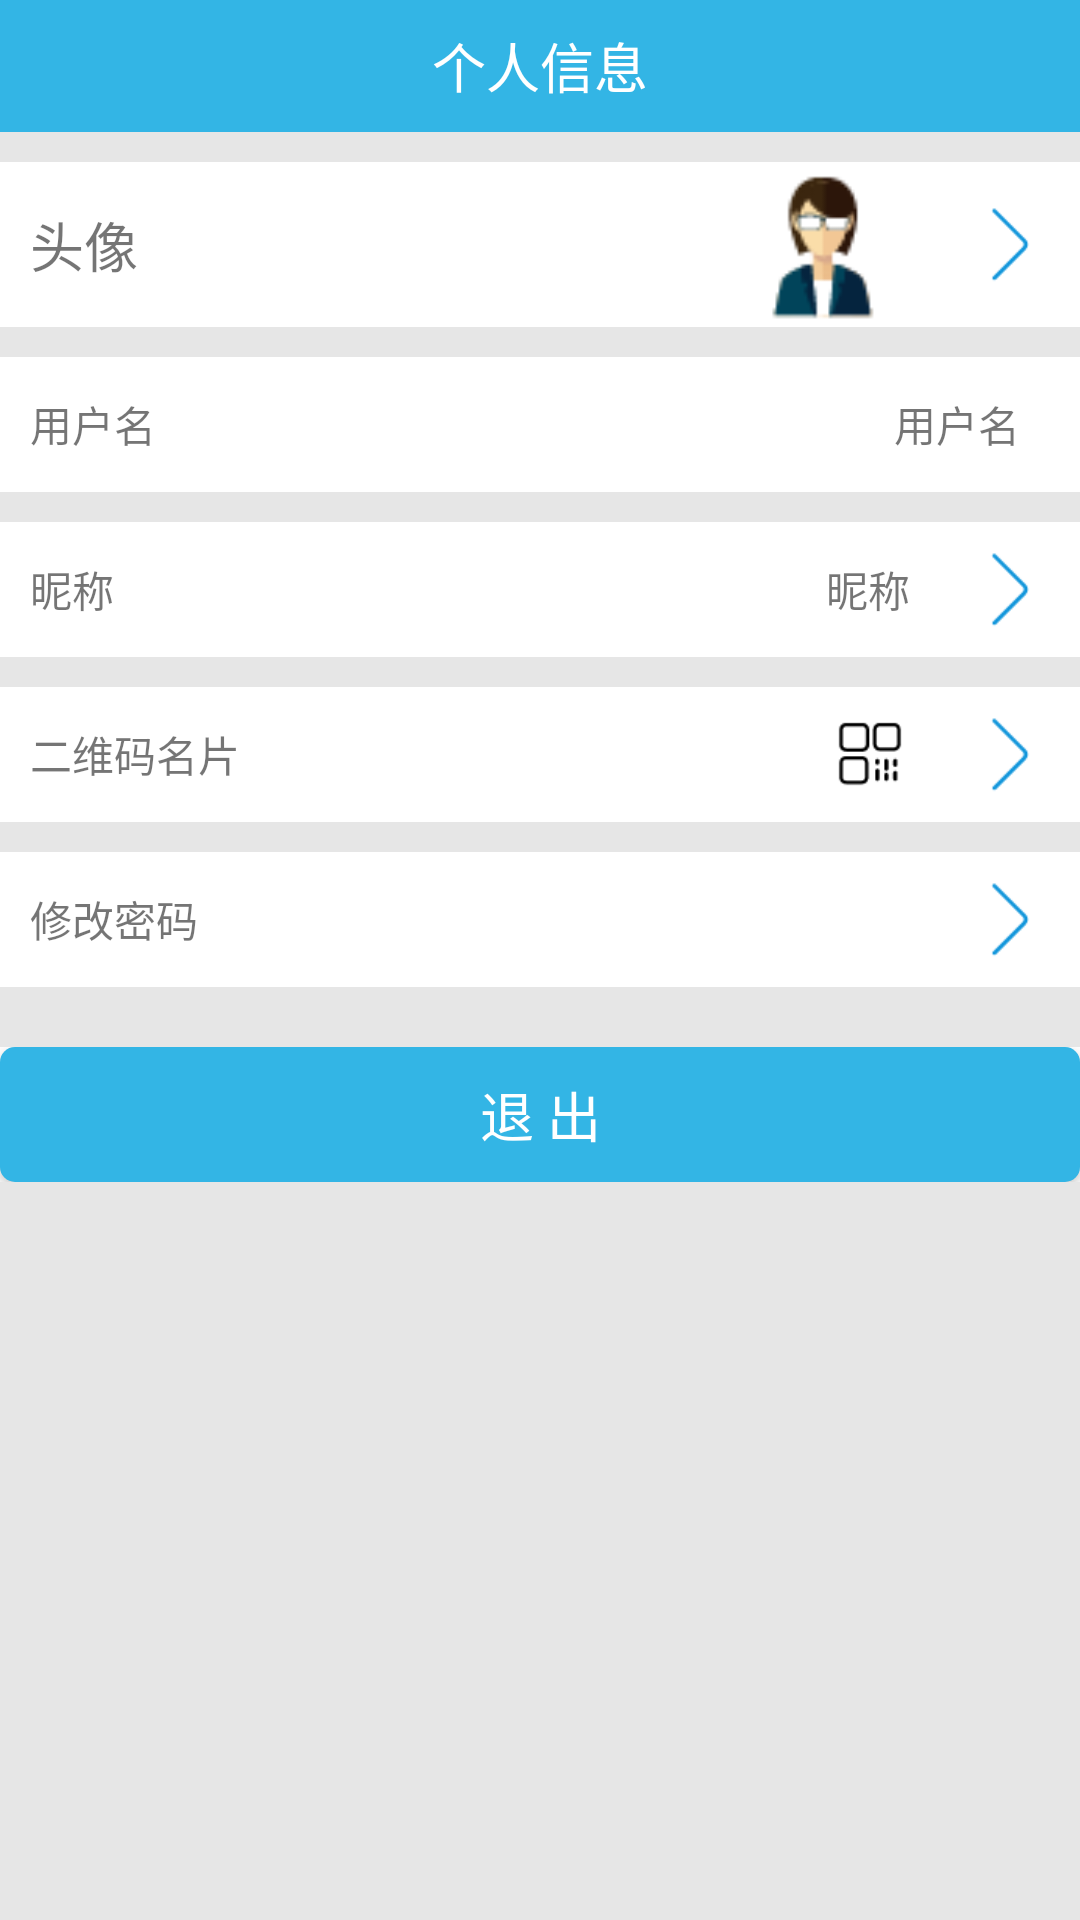

Icon click points for this 1080 x 1920 phone screenshot, format (x=x, y=y):
head: (x=822, y=247)
next: (x=1010, y=244), (x=1010, y=589), (x=1010, y=754), (x=1010, y=919)
qrcode: (x=870, y=753)
